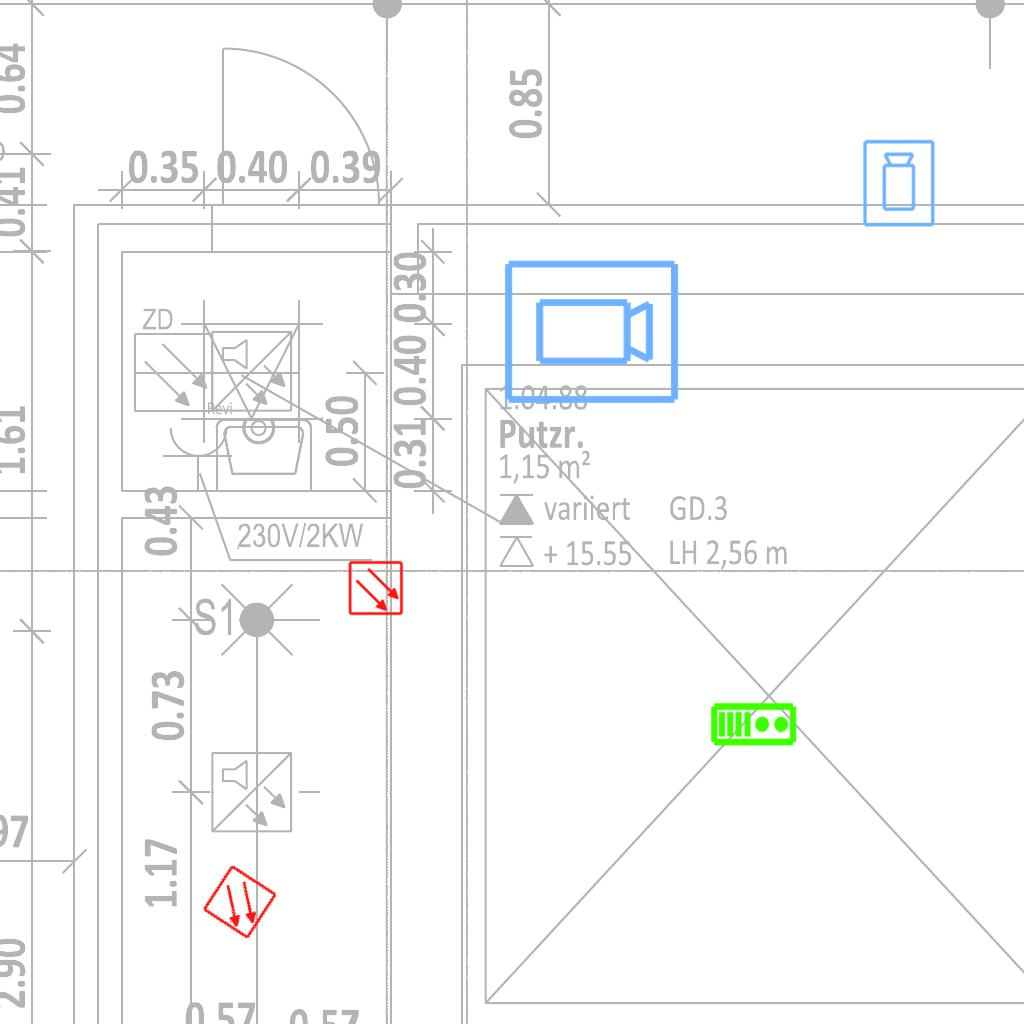Gegensprechanlage_mit_Video: (710, 700, 798, 747)
KFO_Kamera_mit_Festobjektiv: (500, 256, 682, 410), (861, 138, 938, 229)
RMO_Rauchmelder_optischer: (201, 863, 279, 941), (348, 560, 404, 616)
